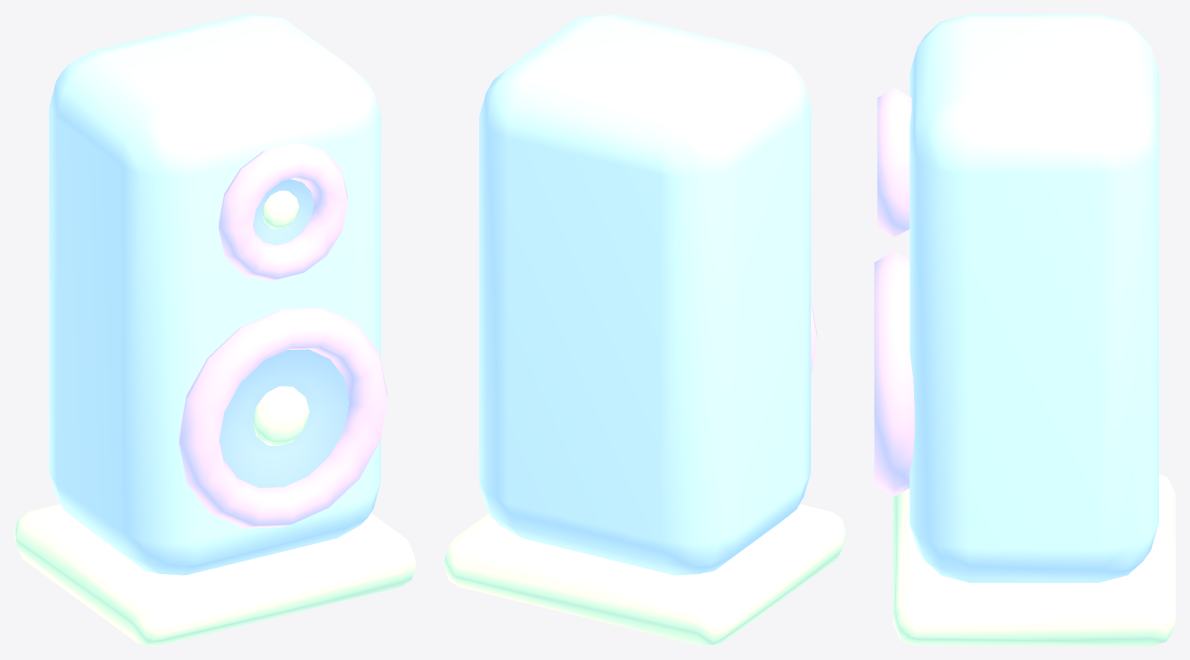
The model's file is props__Speaker.glb.
The picture shows the model from 3 angles, left to right: view 1: azimuth 30°, elevation 25°; view 2: azimuth 150°, elevation 25°; view 3: azimuth 270°, elevation 25°; orthographic projection. The views are drawn at different scales.
Visible parts, largest first — view 1: Speaker; view 2: Speaker; view 3: Speaker.
Boxes of the visible parts, left/top/right/bottom form: Speaker: left=14, top=14, right=415, bottom=645; Speaker: left=444, top=14, right=845, bottom=645; Speaker: left=874, top=14, right=1175, bottom=645.
Bounding box in the file's own units: 2 × 3.5 × 1.81.
